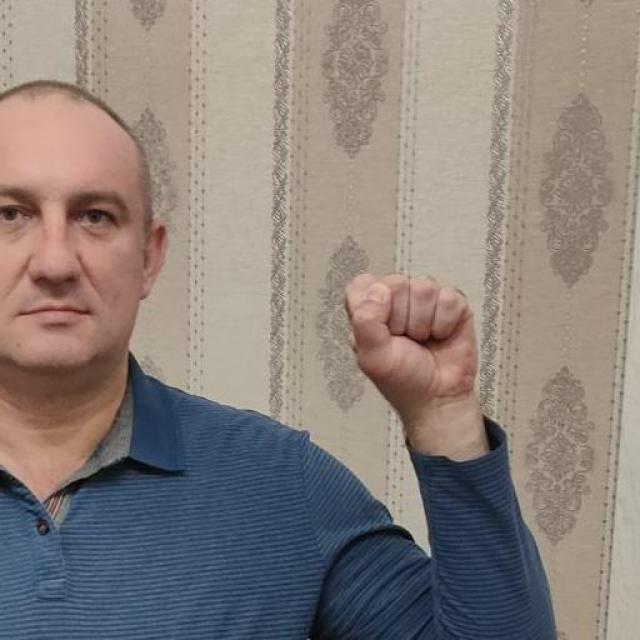hand: (344, 268, 490, 458)
